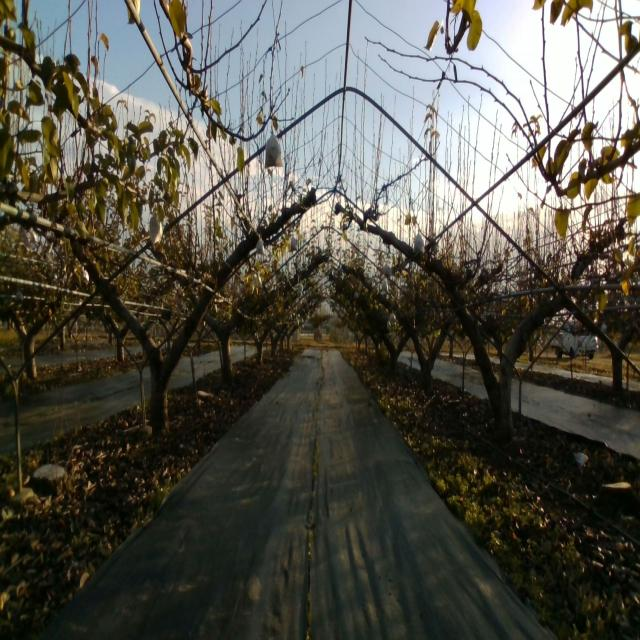pearbags: (264, 127, 282, 168), (149, 215, 162, 245), (413, 228, 425, 254)
